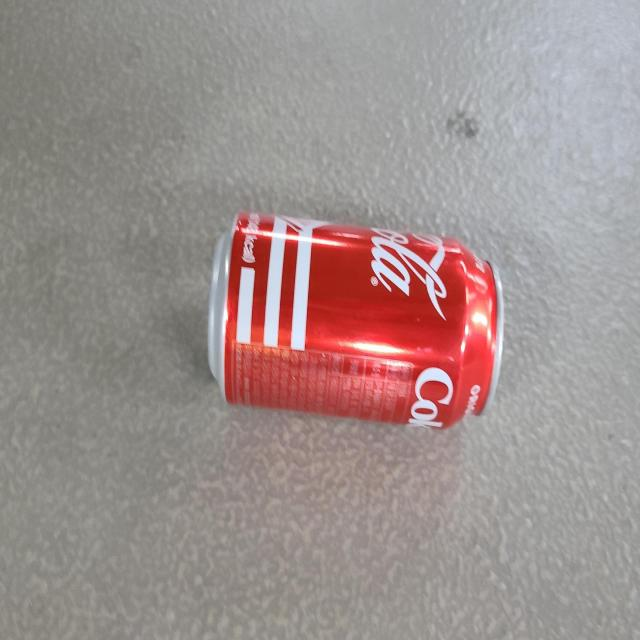can: (208, 211, 504, 429)
